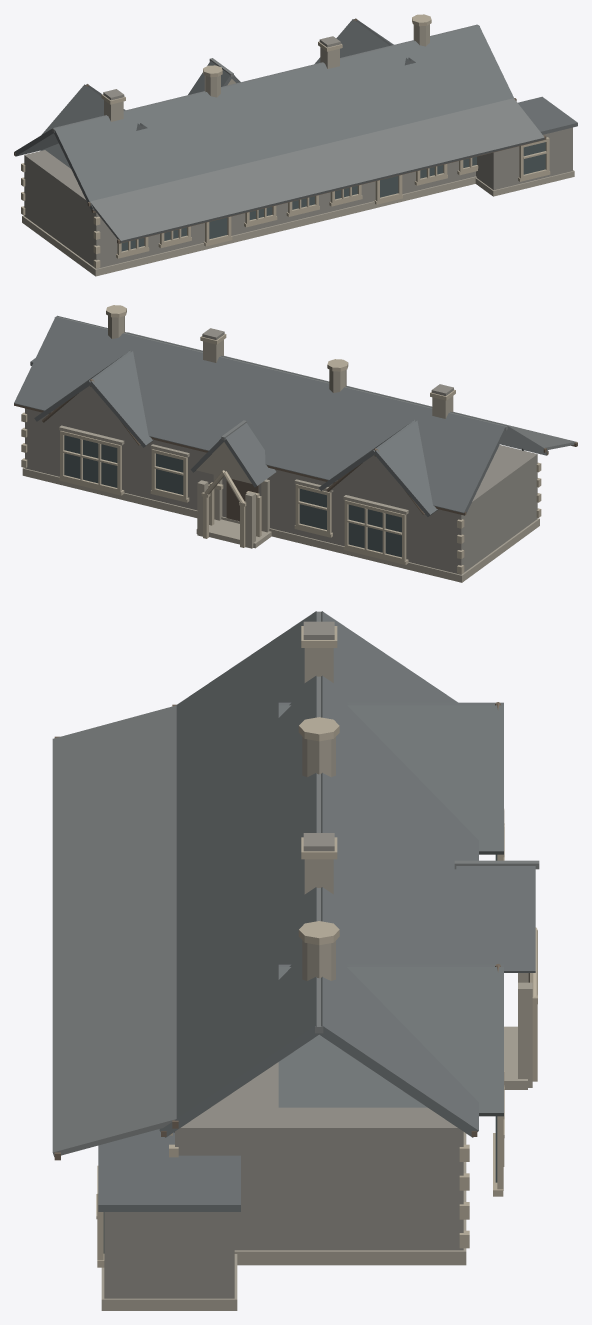
File: birnam_station_exterior.glb
The picture shows the model from 3 angles, top to bottom: view 1: azimuth 30°, elevation 25°; view 2: azimuth 150°, elevation 25°; view 3: azimuth 270°, elevation 25°; orthographic projection. The views are drawn at different scales.
Visible parts, largest first — view 1: Main slate roof south pitch, Twelve bay platform awning roof, Main whinstone station walls, Continuous sandstone plinth, SE single storey addition walls, west gable roof west pitch, SE addition slate roof, east gable roof west pitch, Main slate roof north pitch, SE addition plinth, SE addition south window_glazing, Main roof ridge cap (+2 smaller); view 2: Main slate roof north pitch, Main whinstone station walls, Continuous sandstone plinth, east gable roof west pitch, west gable roof west pitch, west advanced stone gable, east advanced stone gable, west_tripartite_window_glazing, east_tripartite_window_glazing, Porch roof left pitch, Main slate roof south pitch, Twelve bay platform awning roof (+17 smaller); view 3: Main slate roof south pitch, Twelve bay platform awning roof, Main slate roof north pitch, Main whinstone station walls, east gable roof east pitch, west gable roof east pitch, SE single storey addition walls, SE addition slate roof, Porch roof right pitch, Continuous sandstone plinth, SE addition plinth, Porch front pier 1.48 (+6 smaller).
Boxes of the visible parts, x1,y1,x2,y2 form: Main slate roof south pitch: (54, 25, 514, 210); Twelve bay platform awning roof: (90, 98, 544, 242); Main whinstone station walls: (24, 150, 475, 268); Continuous sandstone plinth: (22, 176, 476, 276); SE single storey addition walls: (476, 127, 572, 190); west gable roof west pitch: (40, 84, 142, 168); SE addition slate roof: (518, 96, 577, 134); east gable roof west pitch: (314, 19, 411, 65); Main slate roof north pitch: (14, 24, 477, 156); SE addition plinth: (475, 170, 574, 196); SE addition south window_glazing: (523, 142, 545, 174); Main roof ridge cap: (52, 25, 479, 132); Main slate roof north pitch: (14, 317, 505, 513); Main whinstone station walls: (25, 408, 537, 574); Continuous sandstone plinth: (22, 467, 539, 582); east gable roof west pitch: (89, 338, 153, 447); west gable roof west pitch: (373, 420, 438, 516); west advanced stone gable: (331, 455, 420, 511); east advanced stone gable: (47, 385, 135, 442); west_tripartite_window_glazing: (348, 504, 401, 557); east_tripartite_window_glazing: (64, 435, 117, 487); Porch roof left pitch: (223, 423, 276, 487); Main slate roof south pitch: (57, 315, 548, 455); Twelve bay platform awning roof: (126, 332, 576, 449); Main slate roof south pitch: (159, 611, 319, 1137); Twelve bay platform awning roof: (52, 705, 176, 1156); Main slate roof north pitch: (318, 611, 478, 1137); Main whinstone station walls: (175, 1062, 463, 1250); east gable roof east pitch: (278, 967, 503, 1116); west gable roof east pitch: (278, 705, 503, 854); SE single storey addition walls: (104, 1212, 234, 1298); SE addition slate roof: (98, 1129, 240, 1211); Porch roof right pitch: (456, 866, 535, 972); Continuous sandstone plinth: (234, 1132, 466, 1265); SE addition plinth: (101, 1254, 237, 1310); Porch front pier 1.48: (518, 982, 532, 1087).
Bounding box in the file's own units: 30.85 × 8.95 × 13.82.
